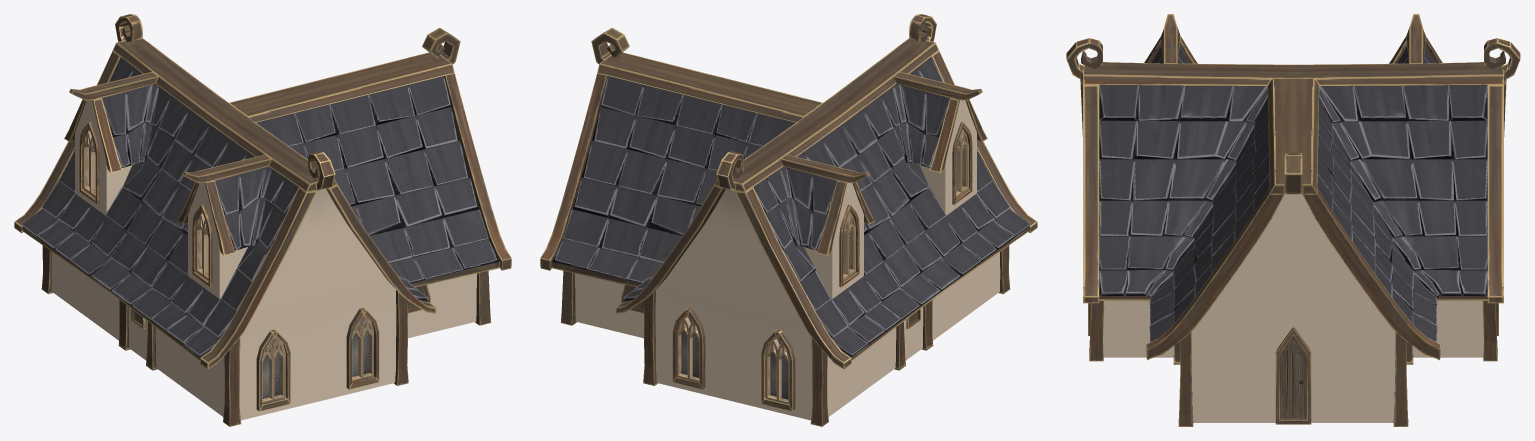
Rendered from House 3.fbx.
The picture shows the model from 3 angles, left to right: view 1: azimuth 30°, elevation 25°; view 2: azimuth 150°, elevation 25°; view 3: azimuth 270°, elevation 25°; orthographic projection. The views are drawn at different scales.
Visible parts, largest first — view 1: House 3; view 2: House 3; view 3: House 3.
Part boxes in pixels (<box>): House 3: <box>14,14,511,426</box>; House 3: <box>540,14,1037,426</box>; House 3: <box>1066,14,1520,426</box>.
Bounding box in the file's own units: 2206 × 1537 × 2303.
